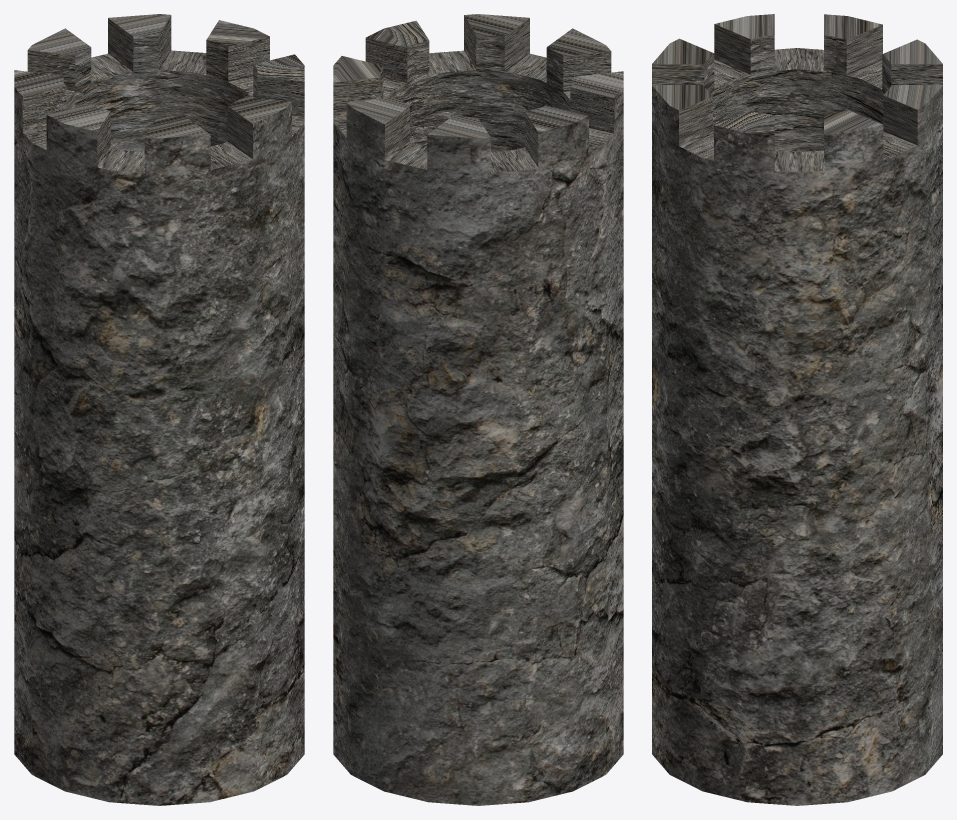
Rendered from wieza.fbx.
3 renders of one model, left to right at view 1: azimuth 30°, elevation 25°; view 2: azimuth 150°, elevation 25°; view 3: azimuth 270°, elevation 25°, orthographic.
Visible parts, largest first — view 1: wieza; view 2: wieza; view 3: wieza.
Part boxes in pixels (left/top/right/bottom): wieza: left=14, top=14, right=304, bottom=805; wieza: left=333, top=14, right=623, bottom=805; wieza: left=652, top=14, right=942, bottom=805.
Size of the model in its own units: 236 by 591 by 233.
Materials: 1 (1 with a texture image).
